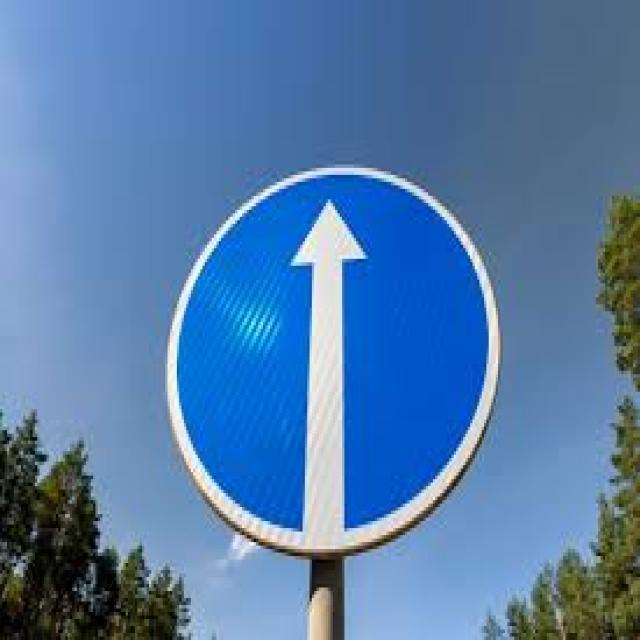STRAIGHT: (168, 164, 498, 584)
